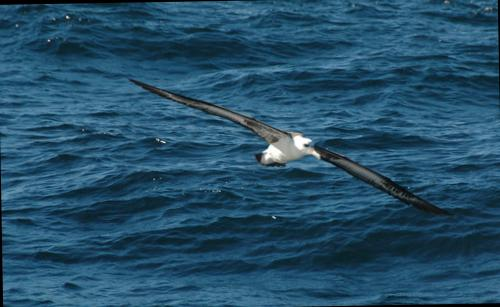bird: (117, 61, 460, 244)
